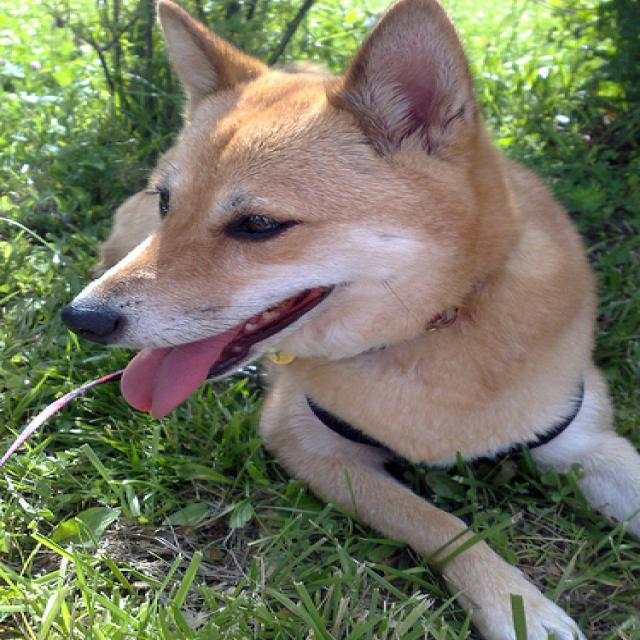dog-shiba_inu: (53, 1, 637, 637)
